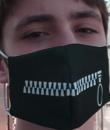with_mask: (1, 1, 110, 130)
